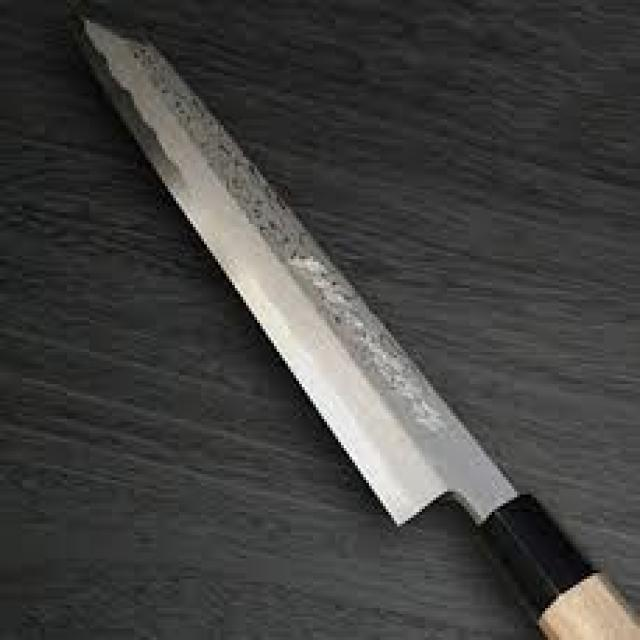knives: (59, 0, 637, 637)
